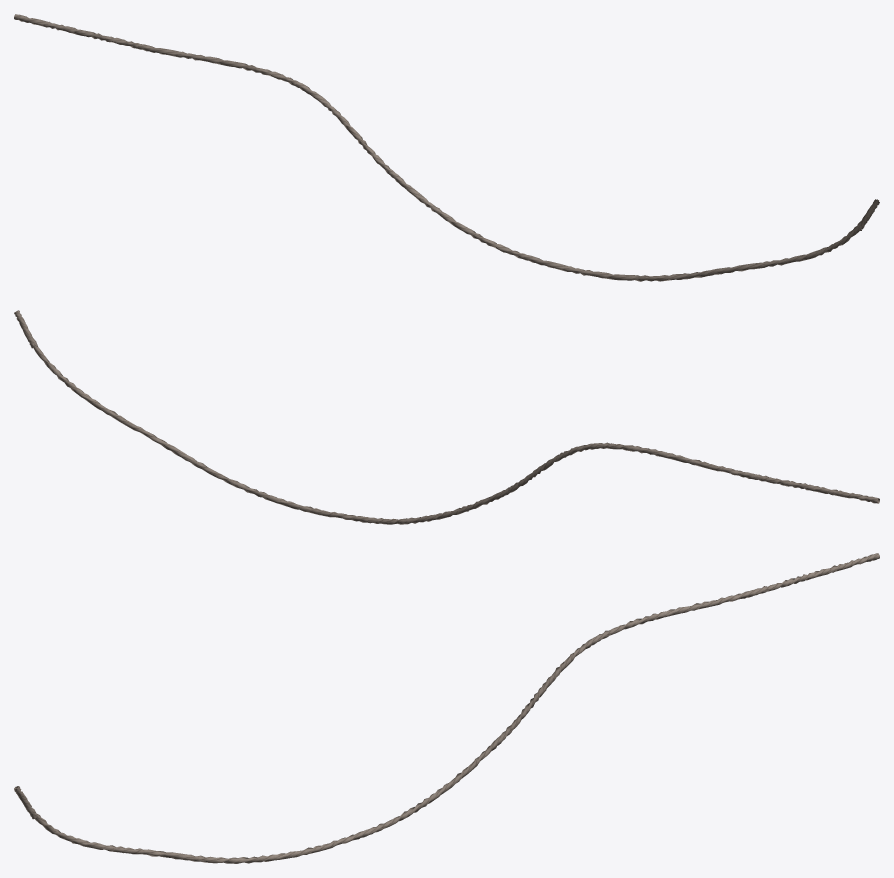
Rendered from SM_RopeSplineMesh_Splines_13.fbx.
3 renders of one model, top to bottom at view 1: azimuth 30°, elevation 25°; view 2: azimuth 210°, elevation 25°; view 3: azimuth 270°, elevation 25°, orthographic. The views are drawn at different scales.
Visible parts, largest first — view 1: SM_RopeSplineMesh_Splines_13; view 2: SM_RopeSplineMesh_Splines_13; view 3: SM_RopeSplineMesh_Splines_13.
Boxes of the visible parts, left/top/right/bottom form: SM_RopeSplineMesh_Splines_13: left=14, top=14, right=879, bottom=281; SM_RopeSplineMesh_Splines_13: left=14, top=310, right=879, bottom=524; SM_RopeSplineMesh_Splines_13: left=14, top=553, right=879, bottom=863.
Bounding box in the file's own units: 207 × 320 × 59.95.
